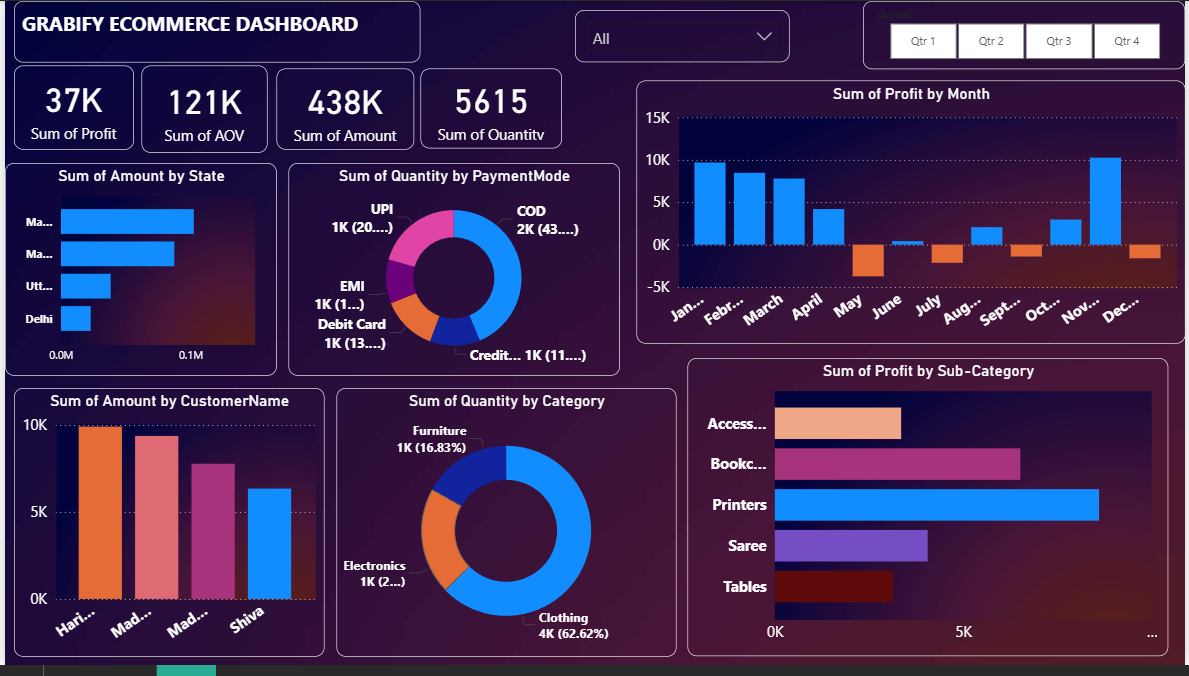

Layout of this report page (visuals, bound fields, positions):
{"tool":"powerbi","page":{"name":"Page 1","canvas":[1280,720],"ordinal":0},"visuals":[{"type":"textbox","box":[9.8,0,440.8,66.7],"z":0},{"type":"clusteredColumnChart","fields":{"Y":["Details.Profit","select"],"Category":["Orders.Order Date.Variation.Date Hierarchy.Month"]},"box":[684.1,86.9,595.3,285.4],"z":1000},{"type":"barChart","fields":{"Category":["Details.Sub-Category","Orders.Order Date.Variation.Date Hierarchy.Month"],"Y":["Details.Profit","select"]},"box":[740.8,387.4,521.6,323.2],"z":2000},{"type":"donutChart","fields":{"Y":["select","Details.Quantity"],"Category":["Details.Category"]},"box":[359.1,419.5,368.5,291],"z":3000},{"type":"donutChart","fields":{"Y":["select","Details.Quantity"],"Category":["Details.PaymentMode"]},"box":[308,175.7,359.1,230.6],"z":4000},{"type":"card","fields":{"Values":["Details.Amount"]},"box":[294.4,73.2,149.6,87.8],"z":5000},{"type":"card","fields":{"Values":["Details.Quantity"]},"box":[449.8,73.7,153.1,86.9],"z":6000},{"type":"card","fields":{"Values":["Details.Profit"]},"box":[9.8,69.9,130.1,91.1],"z":7000},{"type":"columnChart","fields":{"Category":["Orders.CustomerName"],"Y":["Details.Amount"]},"box":[9.4,419.5,336.4,291],"z":8000},{"type":"card","fields":{"Values":["Details.AOV"]},"box":[148,69.9,136.6,94.3],"z":9000},{"type":"clusteredBarChart","fields":{"Y":["Details.Amount"],"Category":["Orders.State"]},"box":[0,175.7,294.8,230.6],"z":10000},{"type":"slicer","fields":{"Values":["Orders.State"]},"box":[618,9.4,232.4,56.7],"z":11000},{"type":"slicer","fields":{"Values":["Orders.Order Date.Variation.Date Hierarchy.Quarter"]},"box":[929.8,0,349.6,73.7],"z":12000}]}

Visuals, with their boxes in screenshot pixels (x1, y1, x2, y2), scaled from the page's 1280x720 canvas onto the 1189x676 screenshot:
textbox: select_region(9, 0, 419, 63)
clusteredColumnChart - Details.Profit x select: select_region(635, 82, 1188, 350)
barChart - Details.Sub-Category x Orders.Order Date.Variation.Date Hierarchy.Month: select_region(688, 364, 1173, 667)
donutChart - select x Details.Quantity: select_region(334, 394, 676, 667)
donutChart - select x Details.Quantity: select_region(286, 165, 620, 381)
card - Details.Amount: select_region(273, 69, 412, 151)
card - Details.Quantity: select_region(418, 69, 560, 151)
card - Details.Profit: select_region(9, 66, 130, 151)
columnChart - Orders.CustomerName x Details.Amount: select_region(9, 394, 321, 667)
card - Details.AOV: select_region(137, 66, 264, 154)
clusteredBarChart - Details.Amount x Orders.State: select_region(0, 165, 274, 381)
slicer - Orders.State: select_region(574, 9, 790, 62)
slicer - Orders.Order Date.Variation.Date Hierarchy.Quarter: select_region(864, 0, 1188, 69)
